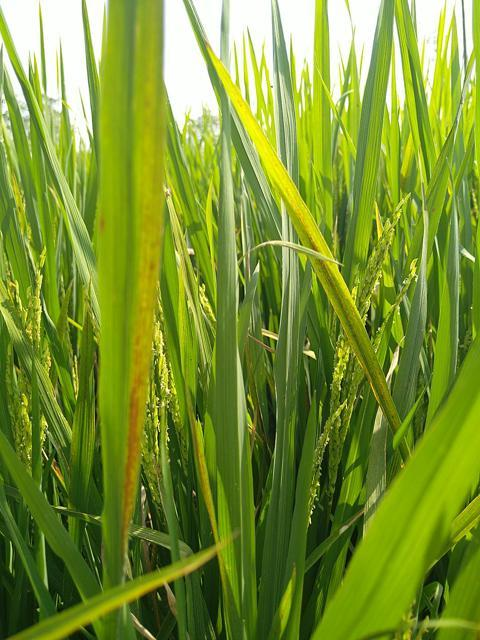Leaf Streak: (286, 211, 401, 435), (119, 11, 165, 557), (190, 414, 219, 542)
